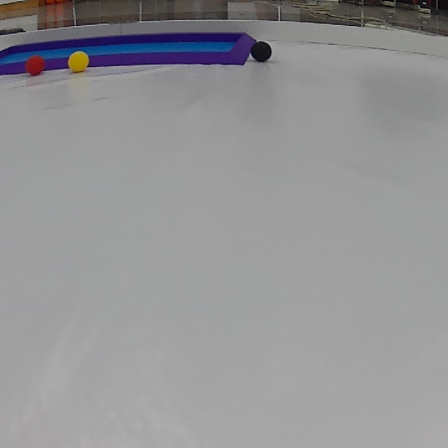black: (251, 41, 271, 64)
blue_aim: (3, 31, 242, 66)
red: (25, 53, 46, 74)
yellow: (65, 51, 88, 68)
